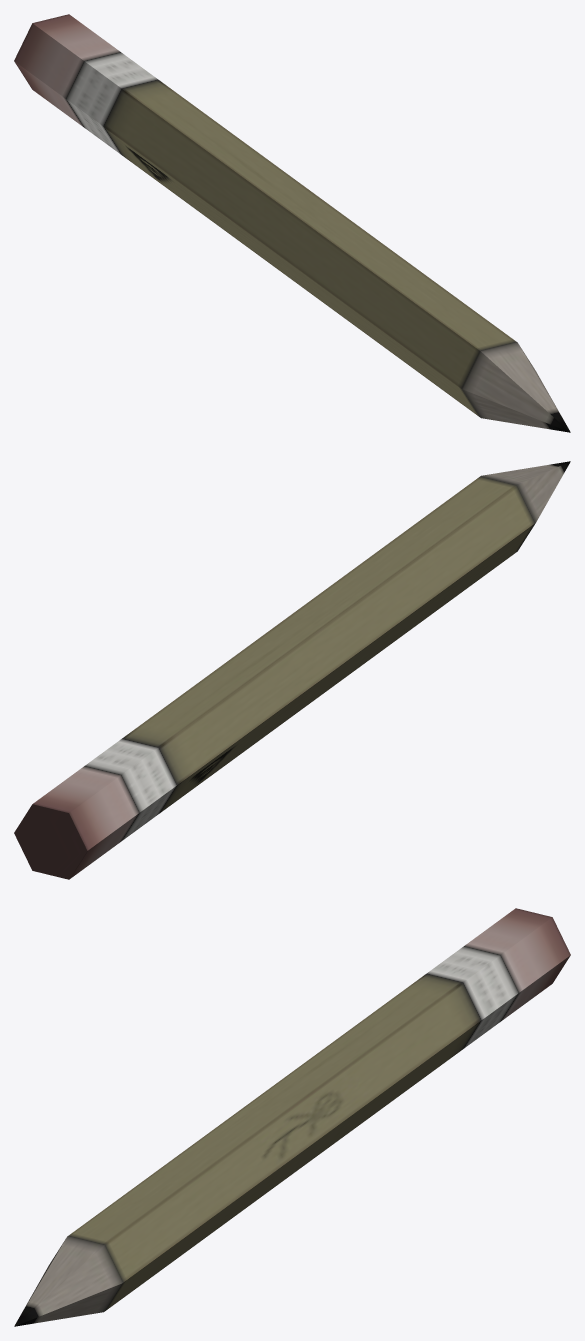
Rendered from office_pen.dae.
3 renders of one model, top to bottom at view 1: azimuth 30°, elevation 25°; view 2: azimuth 150°, elevation 25°; view 3: azimuth 330°, elevation 25°, orthographic.
Parts seen in each view (by area): view 1: pen; view 2: pen; view 3: pen.
Part boxes in pixels (box(x1,y1,x2,y2)): pen: box(14, 14, 570, 432); pen: box(14, 461, 570, 879); pen: box(14, 908, 570, 1326).
Size of what is drawn, in the model's own units: 0.0194 by 0.0168 by 0.2377.
